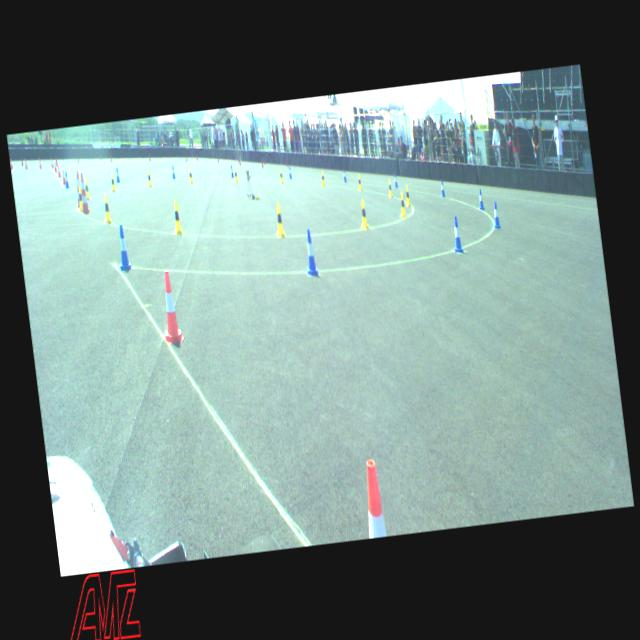blue_cone: (114, 223, 132, 271), (302, 227, 318, 276), (450, 215, 464, 252), (491, 200, 501, 229), (476, 188, 484, 210), (440, 178, 446, 196), (64, 171, 70, 188), (114, 166, 120, 182), (392, 173, 398, 188), (170, 166, 176, 178), (342, 168, 347, 182), (288, 166, 292, 178), (230, 165, 233, 178)
large_orange_cone: (76, 172, 90, 214), (73, 170, 83, 208)
orange_cone: (156, 269, 184, 344), (360, 458, 386, 538), (60, 168, 66, 184), (56, 164, 62, 176), (50, 158, 54, 168), (9, 158, 13, 168), (54, 160, 57, 172), (38, 157, 41, 168), (24, 158, 27, 168)
unknown_cone: (21, 157, 24, 166)
yellow_cone: (170, 200, 183, 234), (273, 203, 285, 237), (101, 193, 113, 224), (358, 198, 369, 229), (398, 192, 407, 218), (76, 186, 84, 210), (404, 184, 411, 206), (84, 178, 91, 200), (110, 173, 116, 191), (356, 173, 362, 190), (146, 170, 152, 187), (387, 178, 392, 197), (278, 168, 284, 183), (320, 170, 325, 186), (188, 167, 193, 183), (233, 168, 238, 182)
